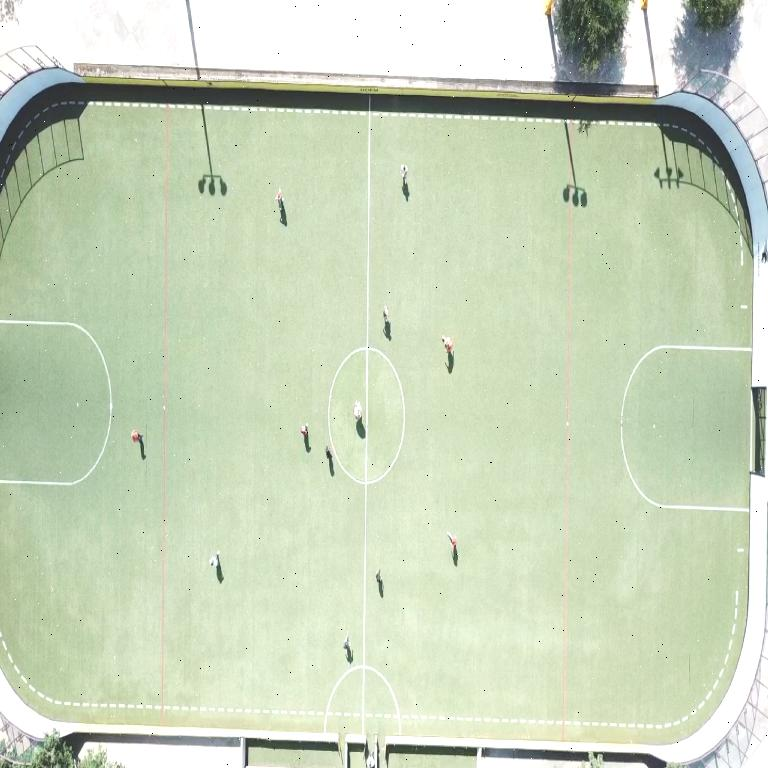AC: (620, 345, 751, 511), (0, 319, 112, 486)
B: (441, 335, 446, 343)
MC: (362, 95, 371, 733)
P: (442, 335, 454, 354), (447, 532, 457, 552), (353, 401, 362, 421), (210, 551, 220, 568), (275, 188, 283, 209), (382, 305, 389, 324), (401, 165, 407, 186), (131, 431, 142, 442), (343, 631, 349, 650), (300, 424, 308, 438), (326, 445, 332, 459), (376, 569, 380, 581)
